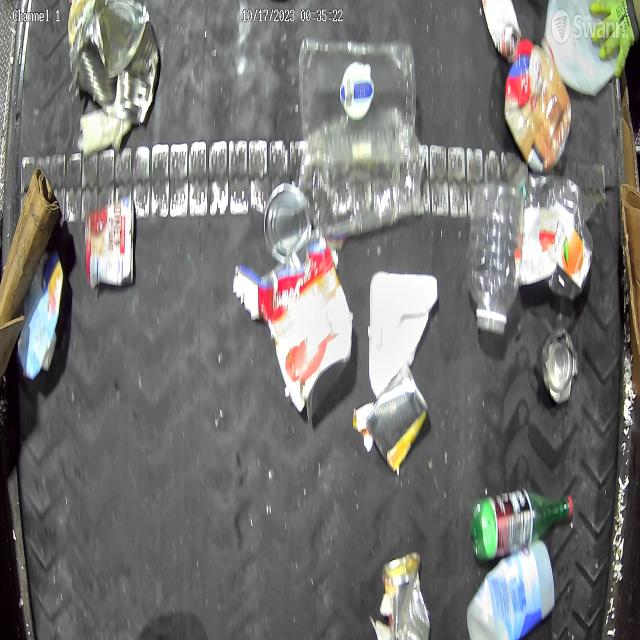can: (260, 229, 354, 421), (69, 0, 157, 120), (367, 360, 428, 472), (84, 195, 135, 288), (382, 556, 432, 640), (265, 183, 312, 266), (540, 329, 580, 405), (482, 0, 521, 64)
milk_jug: (541, 0, 630, 100)
non_white_jug: (465, 537, 554, 640), (18, 248, 67, 380)
plastic_bottle: (469, 181, 525, 337)
